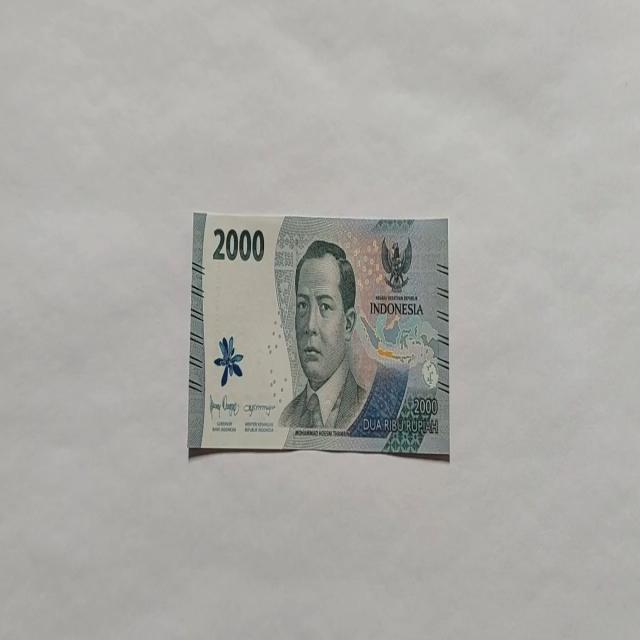dua ribu rupiah: (187, 210, 450, 458), (276, 238, 368, 432)
